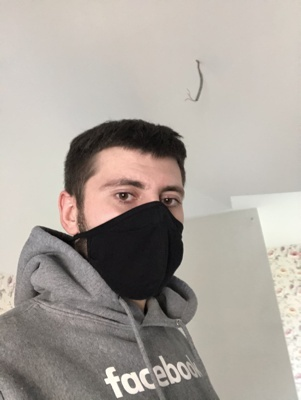good: (84, 163, 184, 300)
